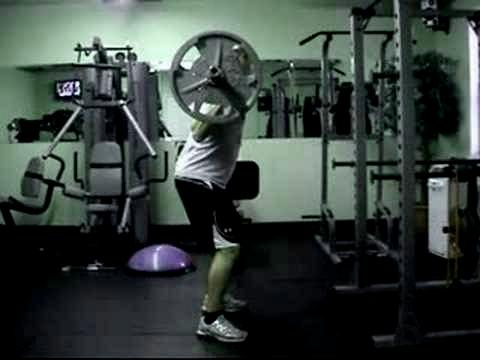Barbell: (206, 64, 225, 80)
